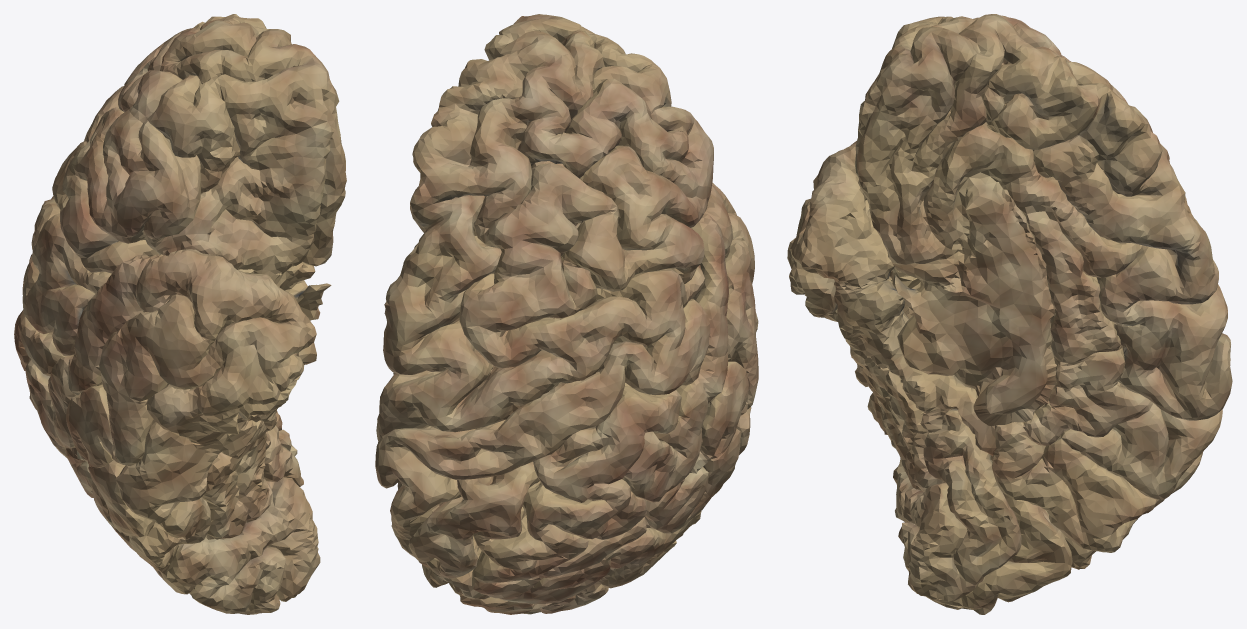
File: R_Cortex.obj
3 views of the same model, side by side, from view 1: azimuth 30°, elevation 25°; view 2: azimuth 150°, elevation 25°; view 3: azimuth 270°, elevation 25° (orthographic).
Visible parts, largest first — view 1: R_Cortex_final_Cortex_final.001; view 2: R_Cortex_final_Cortex_final.001; view 3: R_Cortex_final_Cortex_final.001.
Boxes of the visible parts, left/top/right/bottom form: R_Cortex_final_Cortex_final.001: left=14, top=14, right=346, bottom=614; R_Cortex_final_Cortex_final.001: left=375, top=14, right=758, bottom=614; R_Cortex_final_Cortex_final.001: left=787, top=14, right=1232, bottom=614.
Size of the model in its own units: 270 by 627 by 437.
